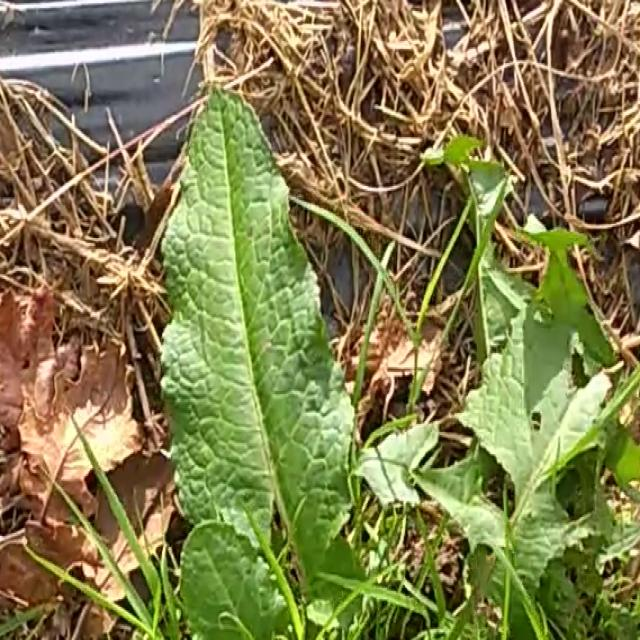organic waste: (142, 61, 638, 640)
